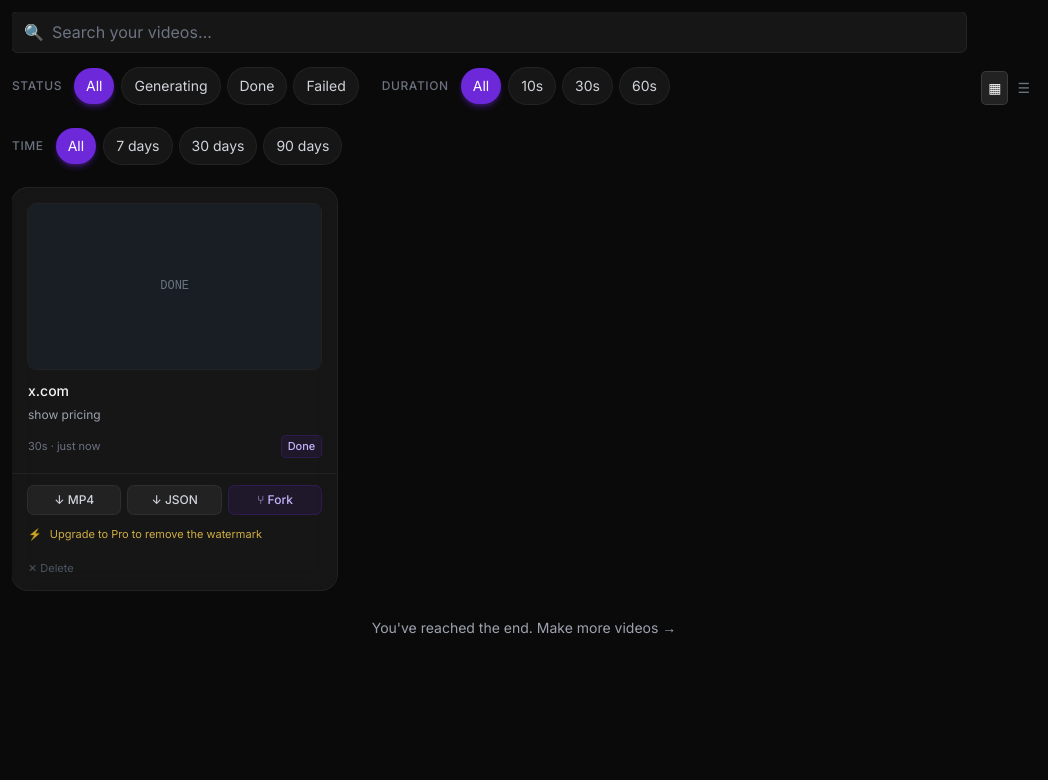
Scenario: HistoryGrid — delete › removes card from state when delete succeeds
Check: the text "x.com" is shown, box [28,382,69,399]
What coordinates should you click on to do the following:
click the button with aria-label "delete this job"
I would click on:
 (51, 569)
Its box is [28,560,74,577].
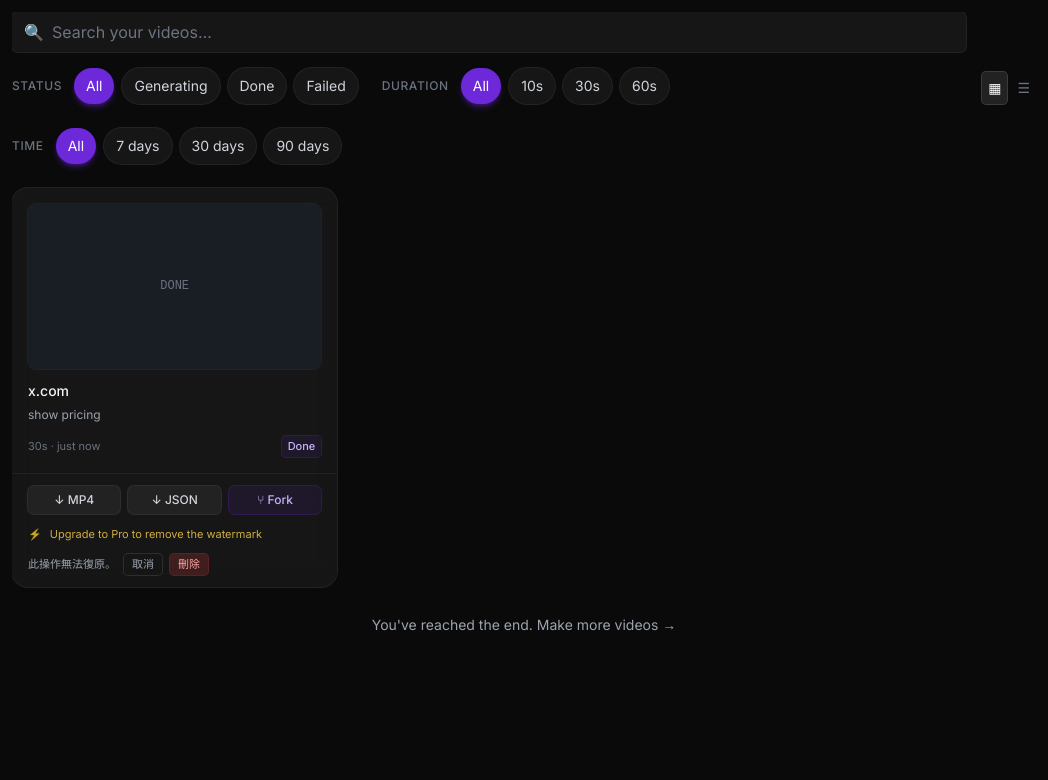
What coordinates should you click on to do the following:
click the button "刪除"
I would click on:
 (189, 565)
Its box is [170,554,208,575].
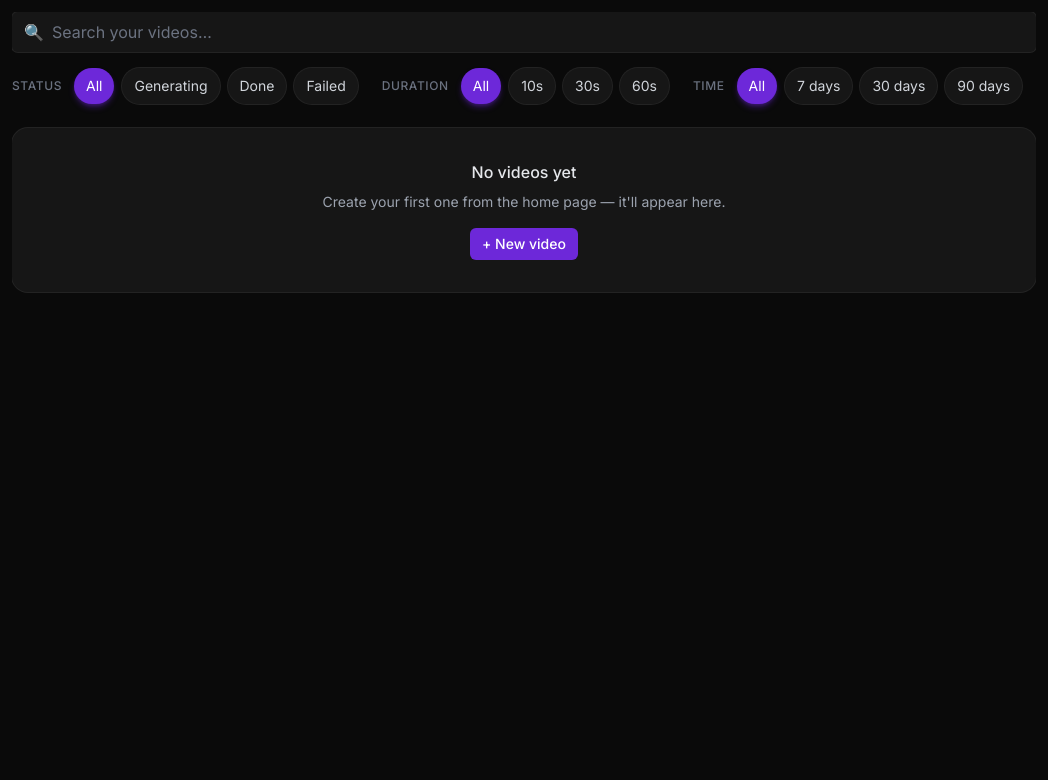
Check: the link "x.com" is gone
